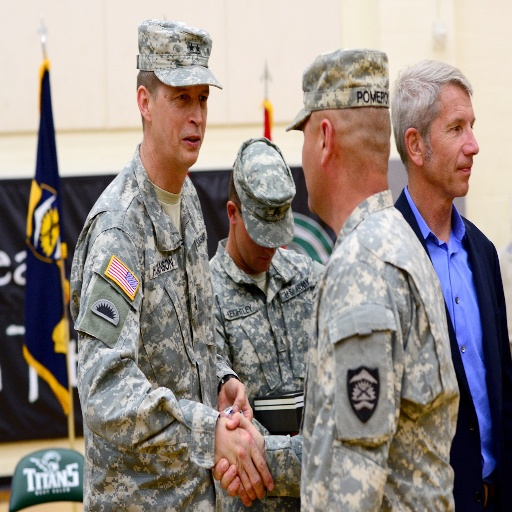hand: (212, 408, 266, 499), (218, 376, 252, 421)
